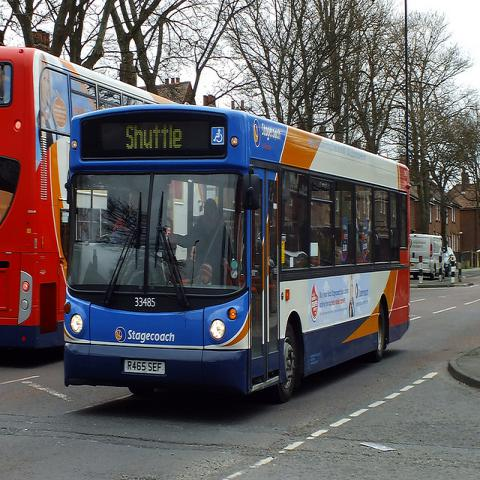bus: (64, 103, 410, 402), (1, 48, 180, 356)
car: (444, 246, 456, 277)
truck: (411, 233, 443, 279)
